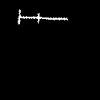double_crochet: (18, 10, 67, 23)
